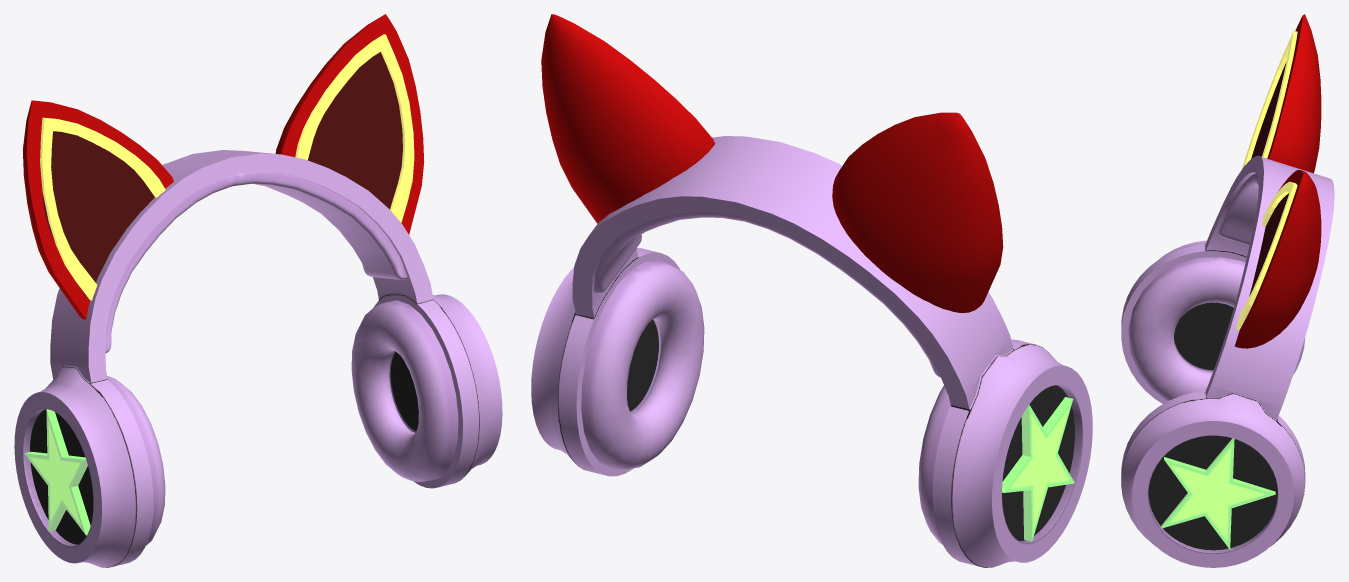
Rendered from headphones.glb.
3 renders of one model, left to right at view 1: azimuth 30°, elevation 25°; view 2: azimuth 150°, elevation 25°; view 3: azimuth 270°, elevation 25°, orthographic. The views are drawn at different scales.
Visible parts, largest first — view 1: Headphone, Ears, Cushions, Ear, Stars; view 2: Headphone, Ears, Cushions, Stars; view 3: Headphone, Ears, Cushions, Stars, Ear.
Boxes of the visible parts, bbox=[...] form: Headphone: bbox=[14, 150, 502, 567]; Ears: bbox=[22, 14, 424, 319]; Cushions: bbox=[105, 171, 458, 545]; Ear: bbox=[40, 34, 414, 300]; Stars: bbox=[24, 409, 90, 535]; Headphone: bbox=[531, 136, 1092, 567]; Ears: bbox=[541, 14, 1003, 313]; Cushions: bbox=[581, 212, 950, 544]; Stars: bbox=[1002, 397, 1074, 541]; Headphone: bbox=[1121, 155, 1334, 567]; Ears: bbox=[1234, 14, 1321, 348]; Cushions: bbox=[1128, 173, 1258, 401]; Stars: bbox=[1161, 438, 1275, 549]; Ear: bbox=[1236, 31, 1297, 329].
Size of the model in its own units: 1.92 by 1.95 by 0.9592.
5 materials, 5 textured.
